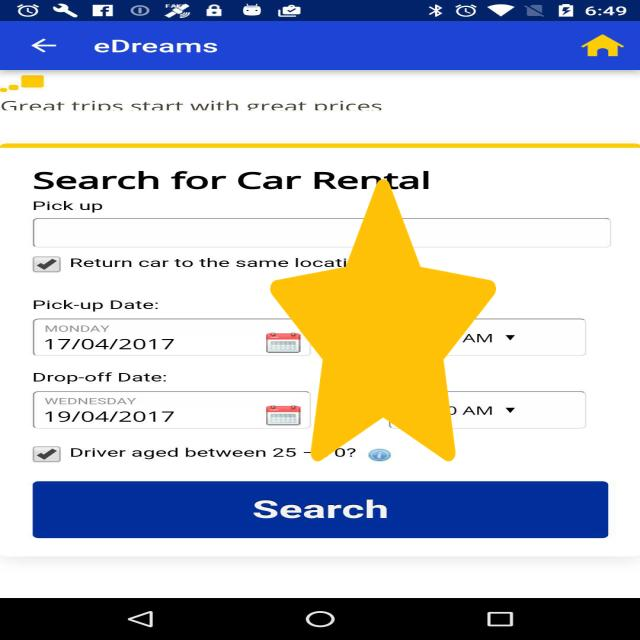forced continuity: (270, 179, 496, 462)
